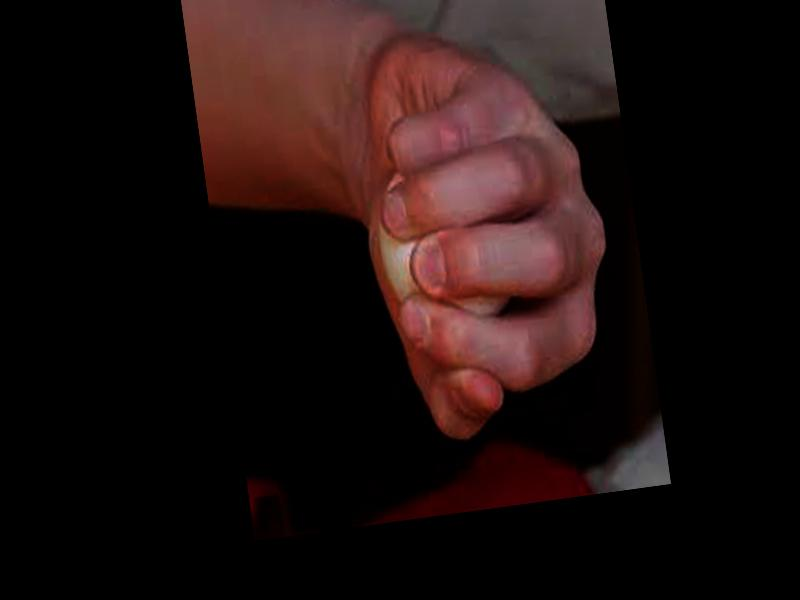Eggs: (369, 159, 516, 349)
